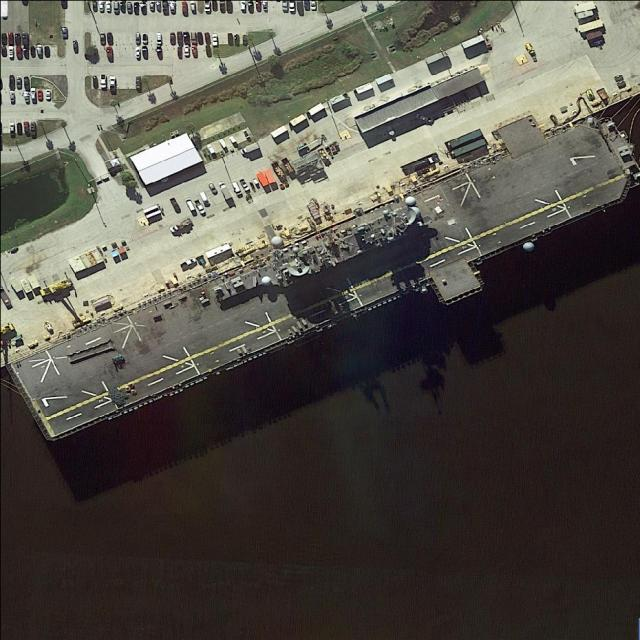Landing: (9, 103, 638, 442)
